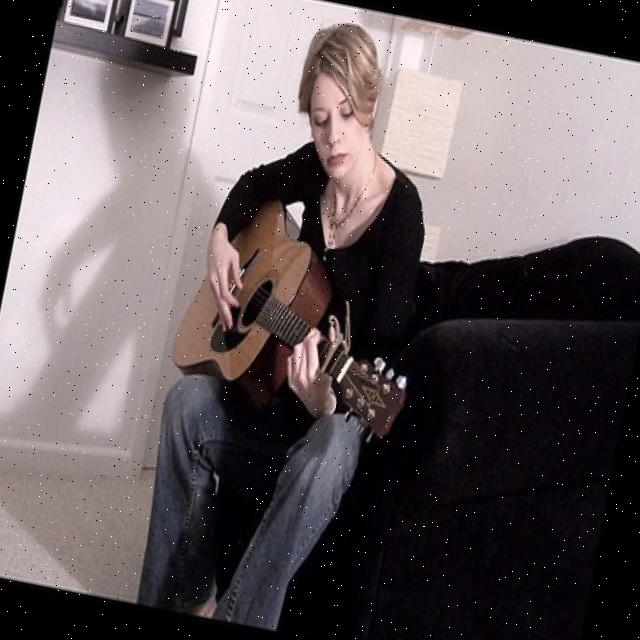guitar: (156, 182, 442, 452)
